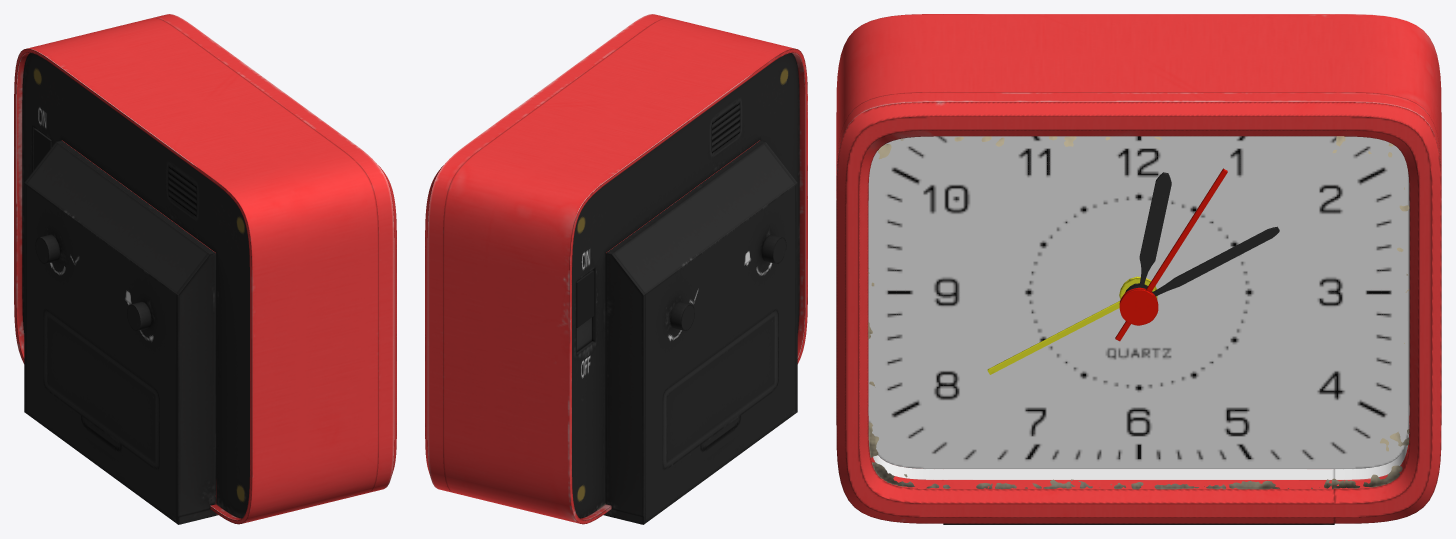
The model's file is QuartzClock_FBX.fbx.
3 renders of one model, left to right at view 1: azimuth 30°, elevation 25°; view 2: azimuth 150°, elevation 25°; view 3: azimuth 270°, elevation 25°, orthographic. The views are drawn at different scales.
Parts seen in each view (by area): view 1: Case; view 2: Case; view 3: Case, Glass, SeecondArm, HourArm, MinuteArm, AlarmArm.
Boxes of the visible parts, x1=… form: Case: x1=14, y1=14, x2=396, y2=524; Case: x1=425, y1=14, x2=807, y2=524; Case: x1=836, y1=14, x2=1441, y2=524; Glass: x1=868, y1=136, x2=1409, y2=489; SeecondArm: x1=1115, y1=168, x2=1227, y2=341; HourArm: x1=1125, y1=172, x2=1171, y2=292; MinuteArm: x1=1152, y1=226, x2=1279, y2=296; AlarmArm: x1=987, y1=276, x2=1157, y2=374.
Size of the model in its own units: 5.95 by 9.74 by 12.35.
Materials: 1 (1 with a texture image).
